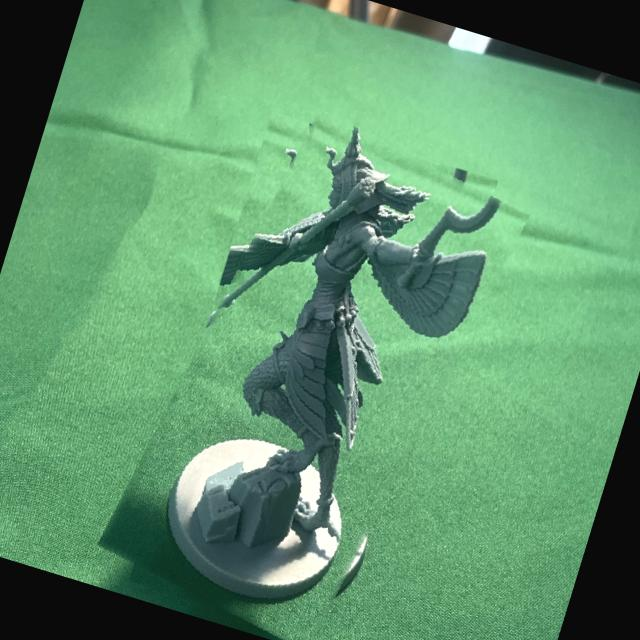isis: (106, 98, 519, 640)
